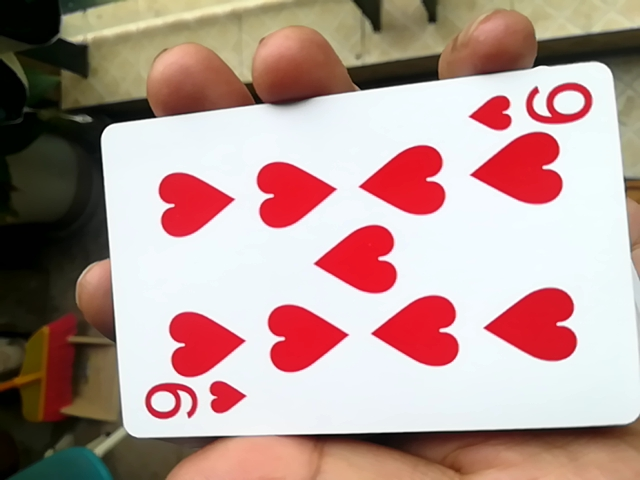hx 9: (91, 81, 634, 457)
